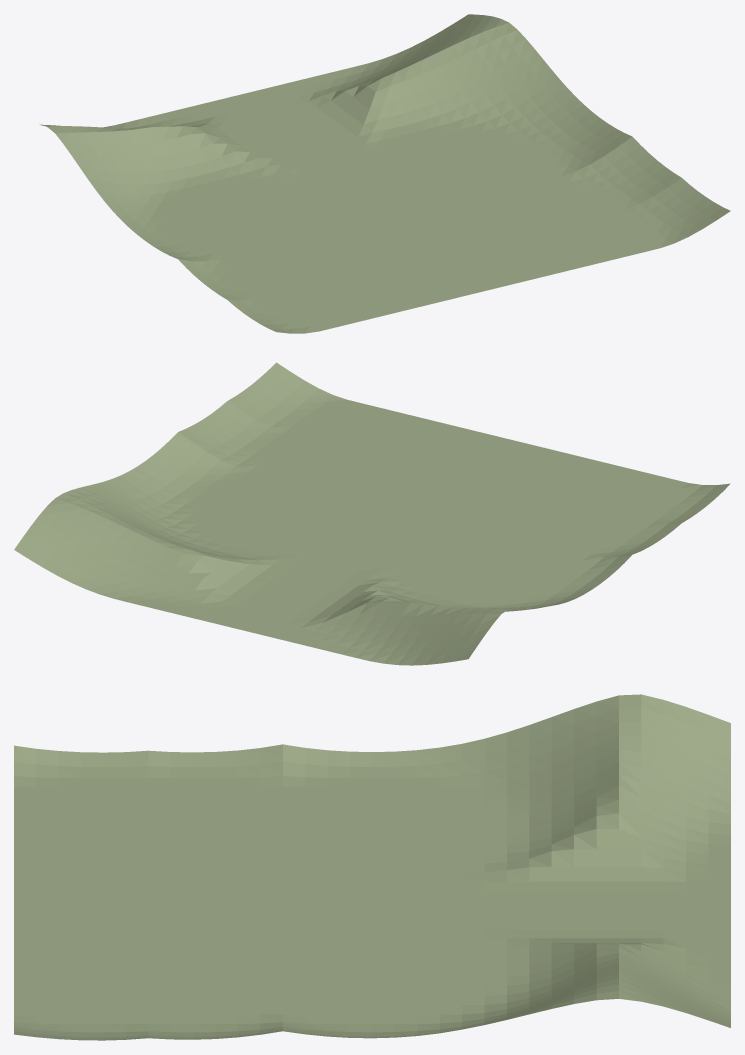
Rendered from gardens-1-2.glb.
3 views of the same model, one above another, from view 1: azimuth 30°, elevation 25°; view 2: azimuth 150°, elevation 25°; view 3: azimuth 270°, elevation 25° (orthographic). The views are drawn at different scales.
Parts seen in each view (by area): view 1: gardens-1-2; view 2: gardens-1-2; view 3: gardens-1-2.
Boxes of the visible parts, bbox=[...] form: gardens-1-2: bbox=[39, 14, 730, 333]; gardens-1-2: bbox=[14, 362, 730, 665]; gardens-1-2: bbox=[14, 694, 730, 1040].
Size of the model in its own units: 256 by 25.42 by 256.
